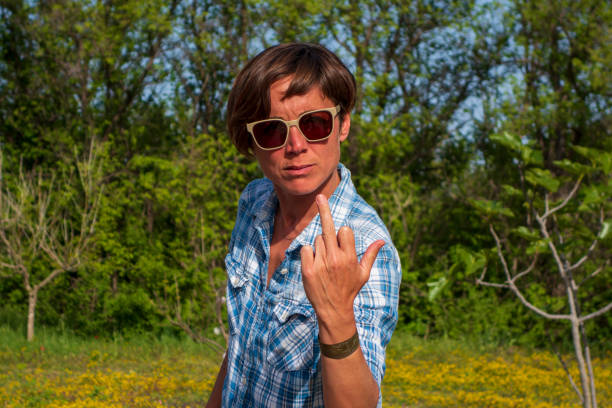insulting_gesture: (297, 192, 385, 319)
